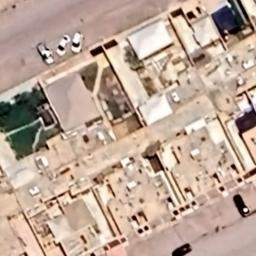sedan: (52, 30, 72, 58), (70, 26, 88, 56)
unknown: (32, 40, 56, 64)
